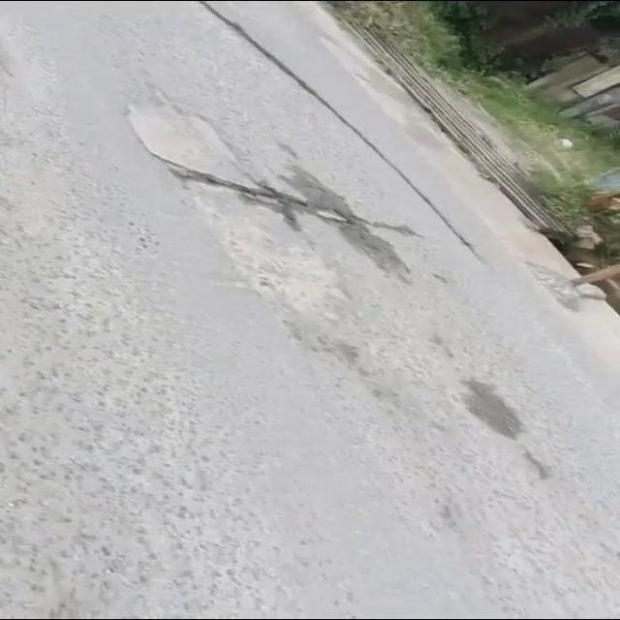lubang: (148, 151, 421, 236)
